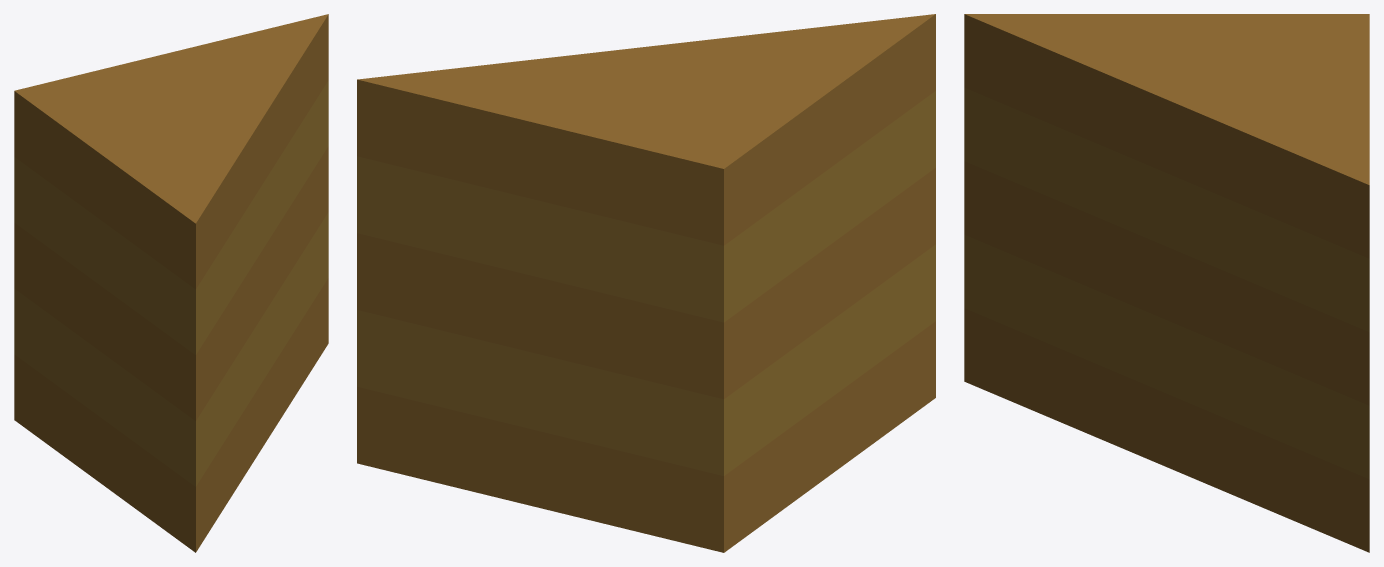
File: TileHalf.fbx
The picture shows the model from 3 angles, left to right: view 1: azimuth 30°, elevation 25°; view 2: azimuth 150°, elevation 25°; view 3: azimuth 270°, elevation 25°; orthographic projection. The views are drawn at different scales.
Visible parts, largest first — view 1: TileHalf; view 2: TileHalf; view 3: TileHalf.
Boxes of the visible parts, x1,y1,x2,y2 form: TileHalf: [14, 14, 328, 552]; TileHalf: [357, 14, 935, 552]; TileHalf: [964, 14, 1369, 552].
Bounding box in the file's own units: 100 × 100 × 100.
